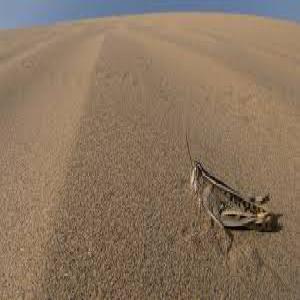locust: (189, 132, 300, 264)
